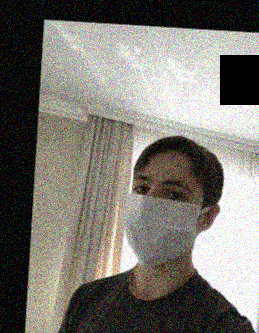with_mask: (121, 167, 203, 270)
